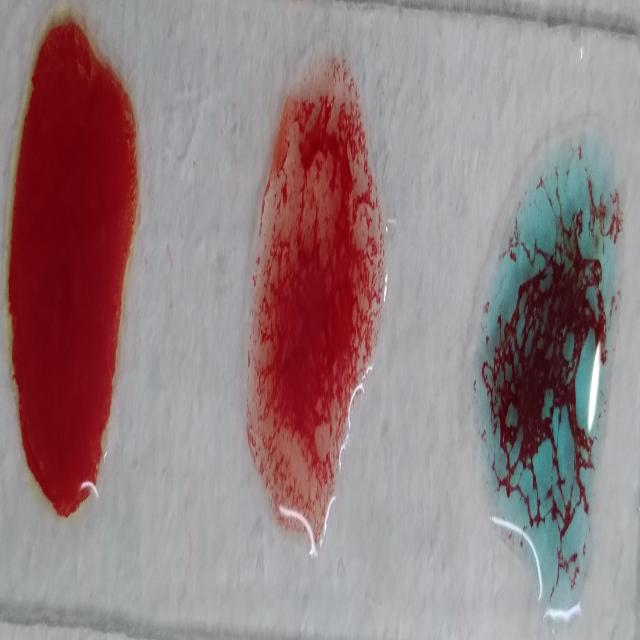A: (472, 100, 614, 608)
D: (246, 69, 378, 550)
